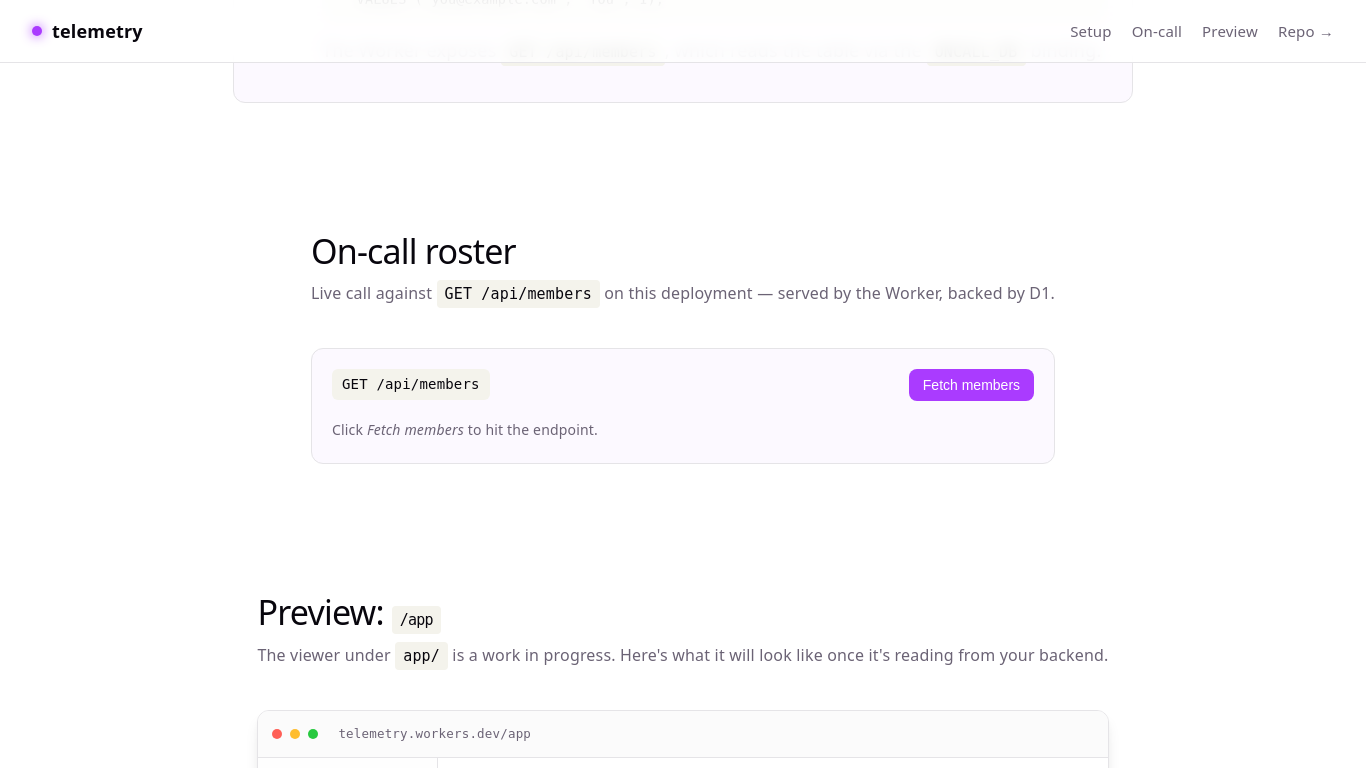
Scenario: <App /> › shows the empty-state hint when the API returns no members
(page scrolled)
Step 1. Click the button "Fetch members" → (971, 385), box [909,369,1034,401]
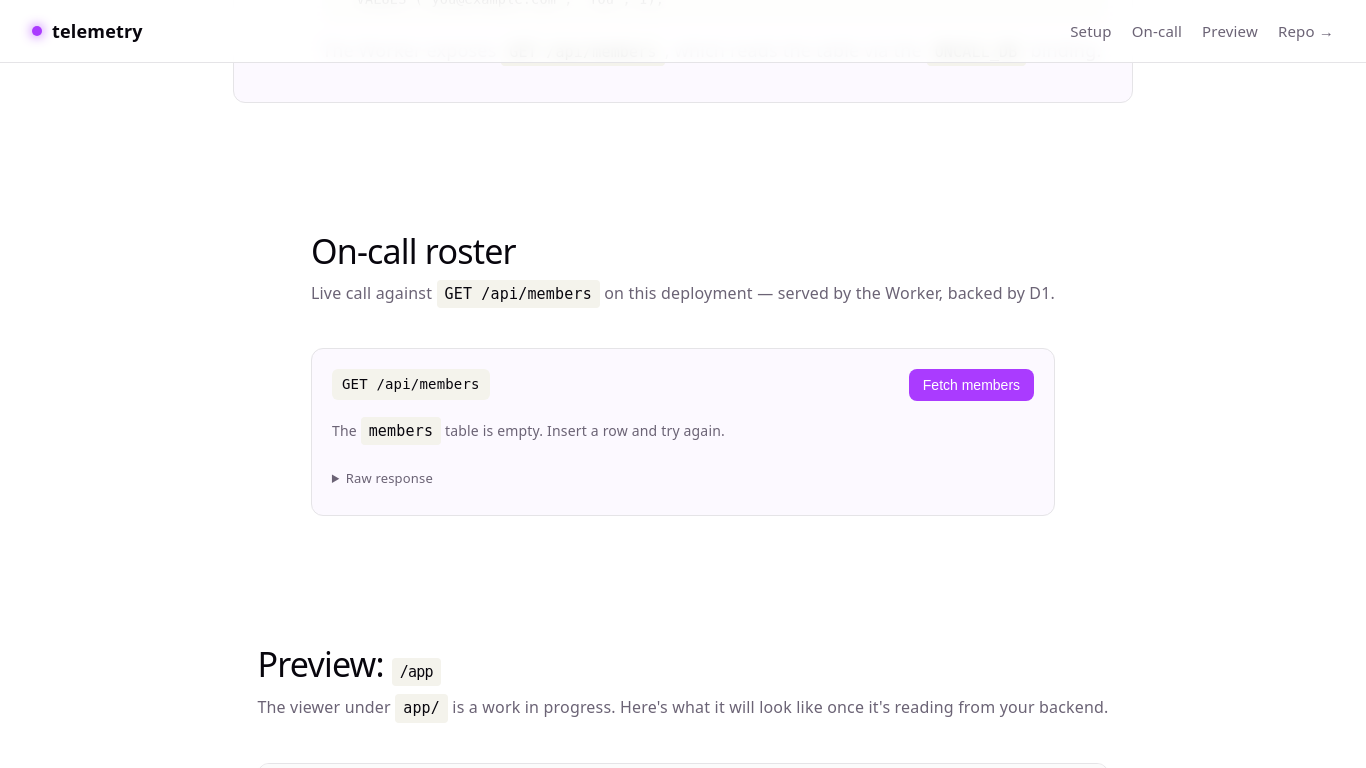
Now the text "The members table is empty. Insert a row and try again." is shown, box [332,417,725,445]
